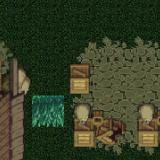Hide: (56, 54, 104, 102)
Obstacle: (0, 0, 31, 160), (64, 94, 131, 160), (132, 95, 160, 160)
Slow: (32, 95, 64, 127)
